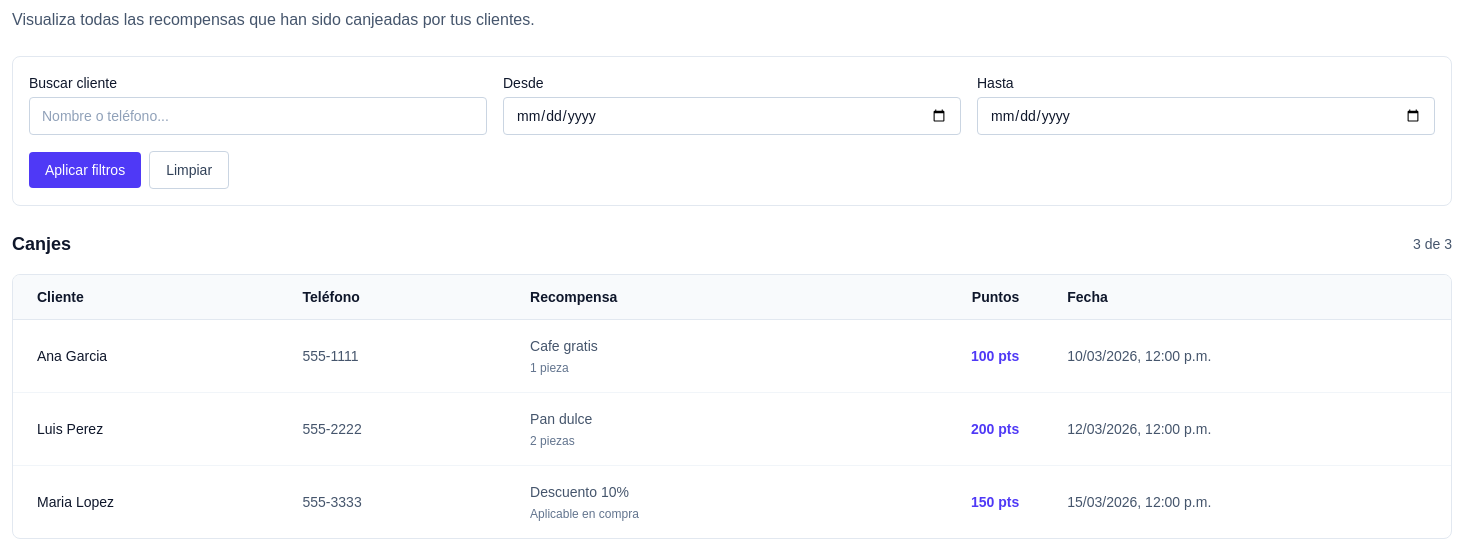
Test: RedemptionsPageClient (/dashboard/rewards/redemptions) › filters by date range inclusively
In the date field below "Desde": (732, 116) 503,97 -> 961,135, type "2026-03-12"
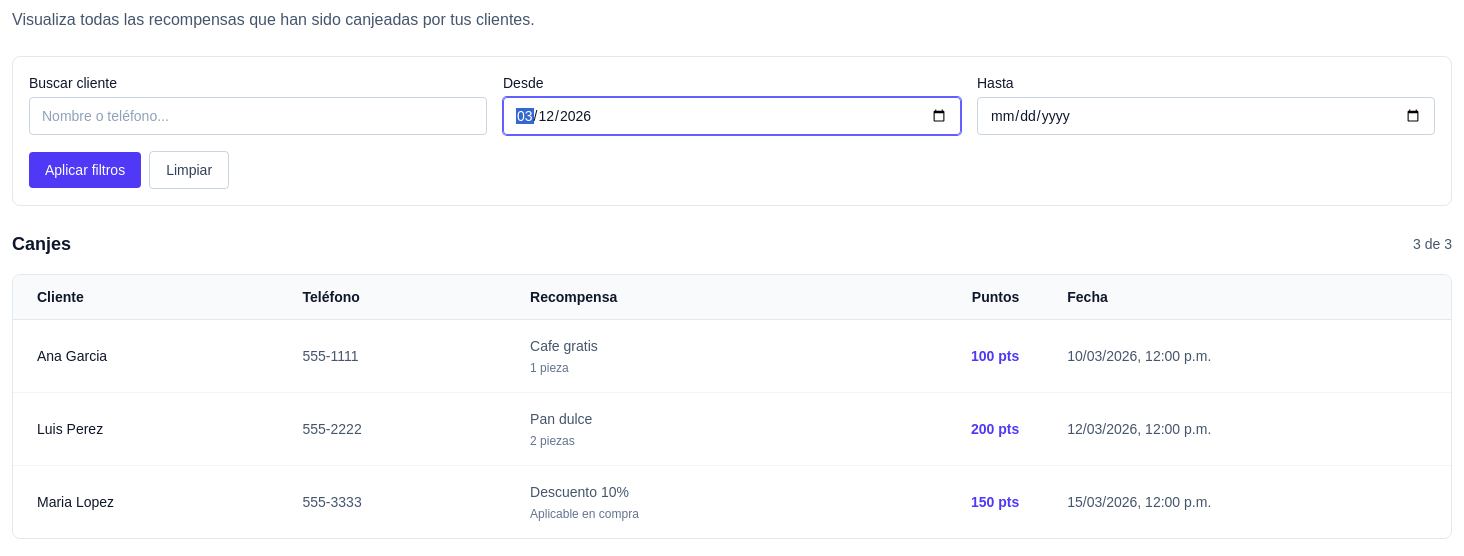
In the date field below "Hasta": (1206, 116) 977,97 -> 1435,135, type "2026-03-13"
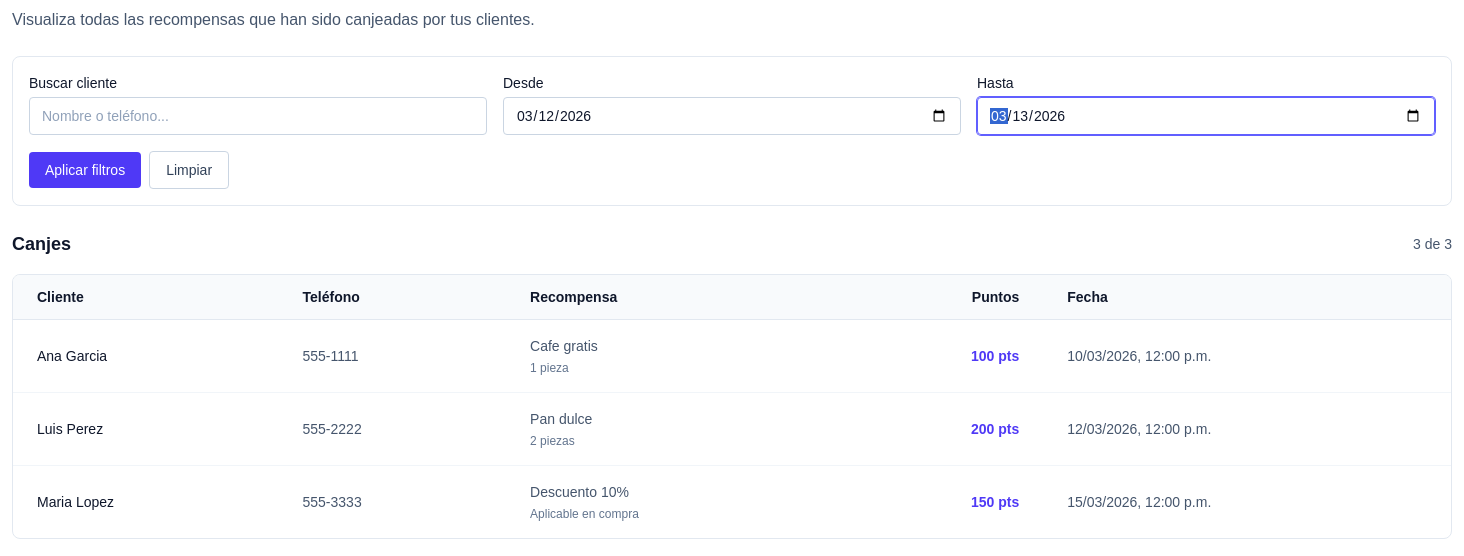
Click the button "Aplicar filtros": (85, 170) 29,152 -> 141,188
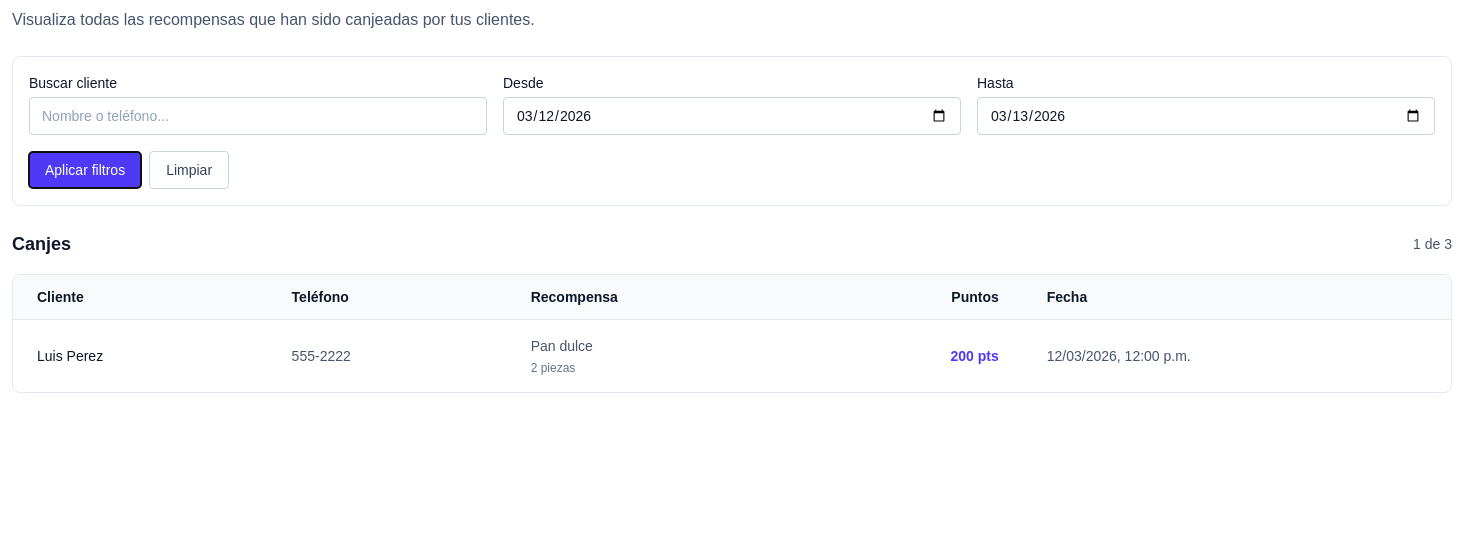
Expected: the text "Ana Garcia" is gone
Expected: the text "Maria Lopez" is gone
Expected: the text "1 de 3" is shown, 1413,234 -> 1452,254
